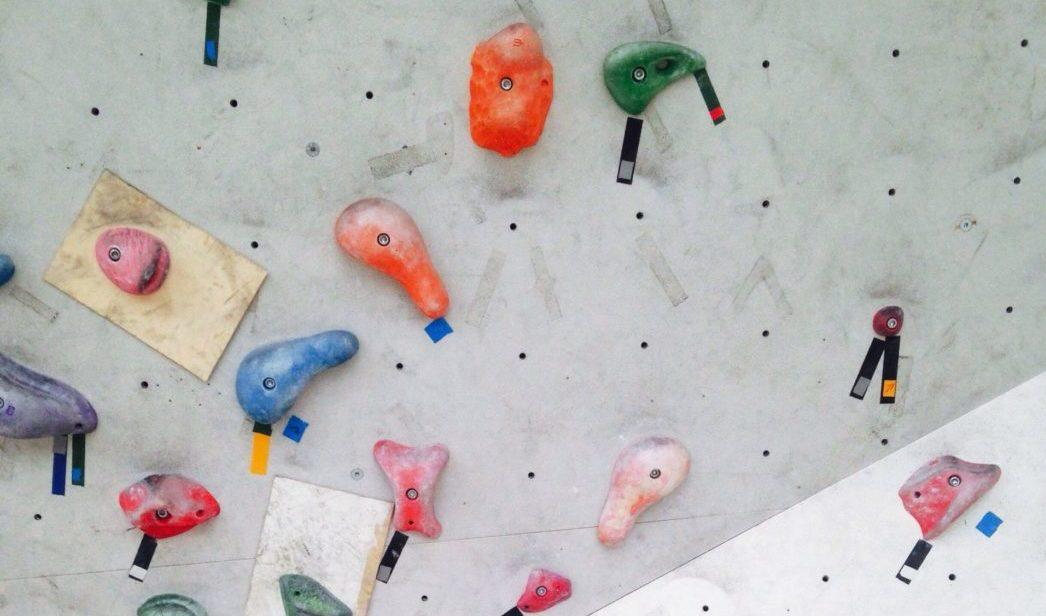black-hold: (324, 180, 480, 325), (217, 292, 366, 435), (565, 417, 701, 552), (887, 428, 1007, 545), (590, 8, 710, 122), (466, 20, 556, 161), (114, 453, 224, 553), (82, 215, 179, 304), (0, 352, 98, 439), (367, 438, 450, 538), (514, 564, 577, 616), (279, 574, 354, 616), (137, 593, 208, 616), (870, 304, 906, 339), (0, 254, 16, 287)
